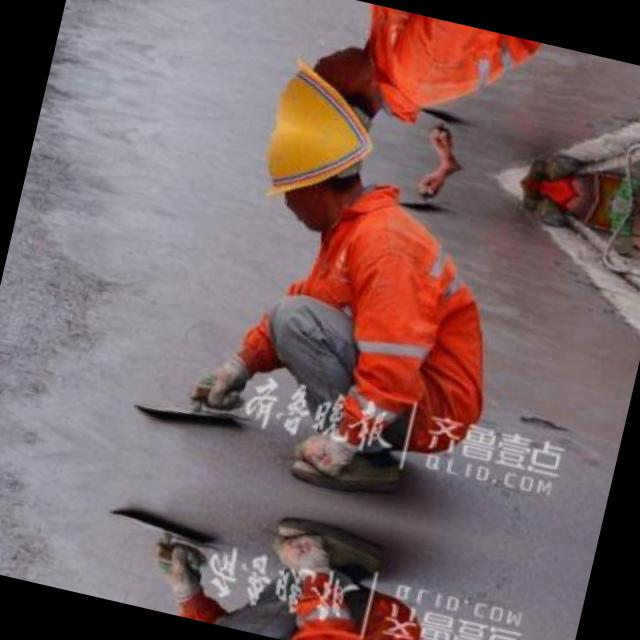helmet: (230, 121, 382, 246), (252, 23, 404, 148)
